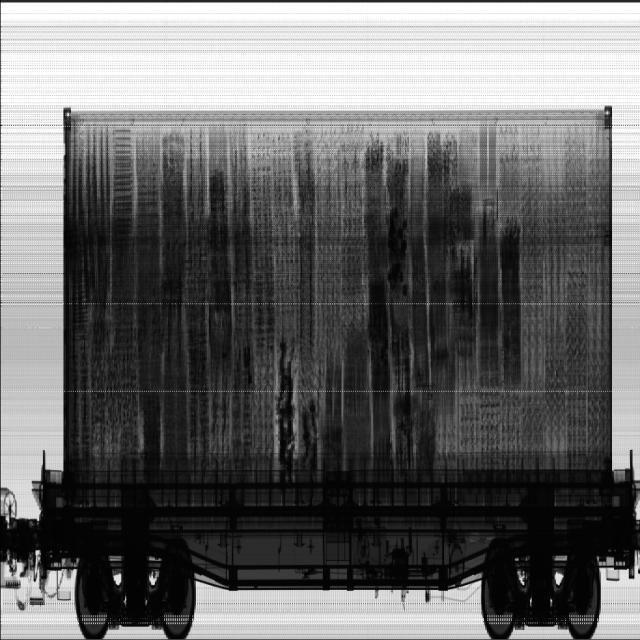auto parts: (276, 343, 320, 471)
shoes: (435, 128, 607, 453), (252, 129, 369, 403)
